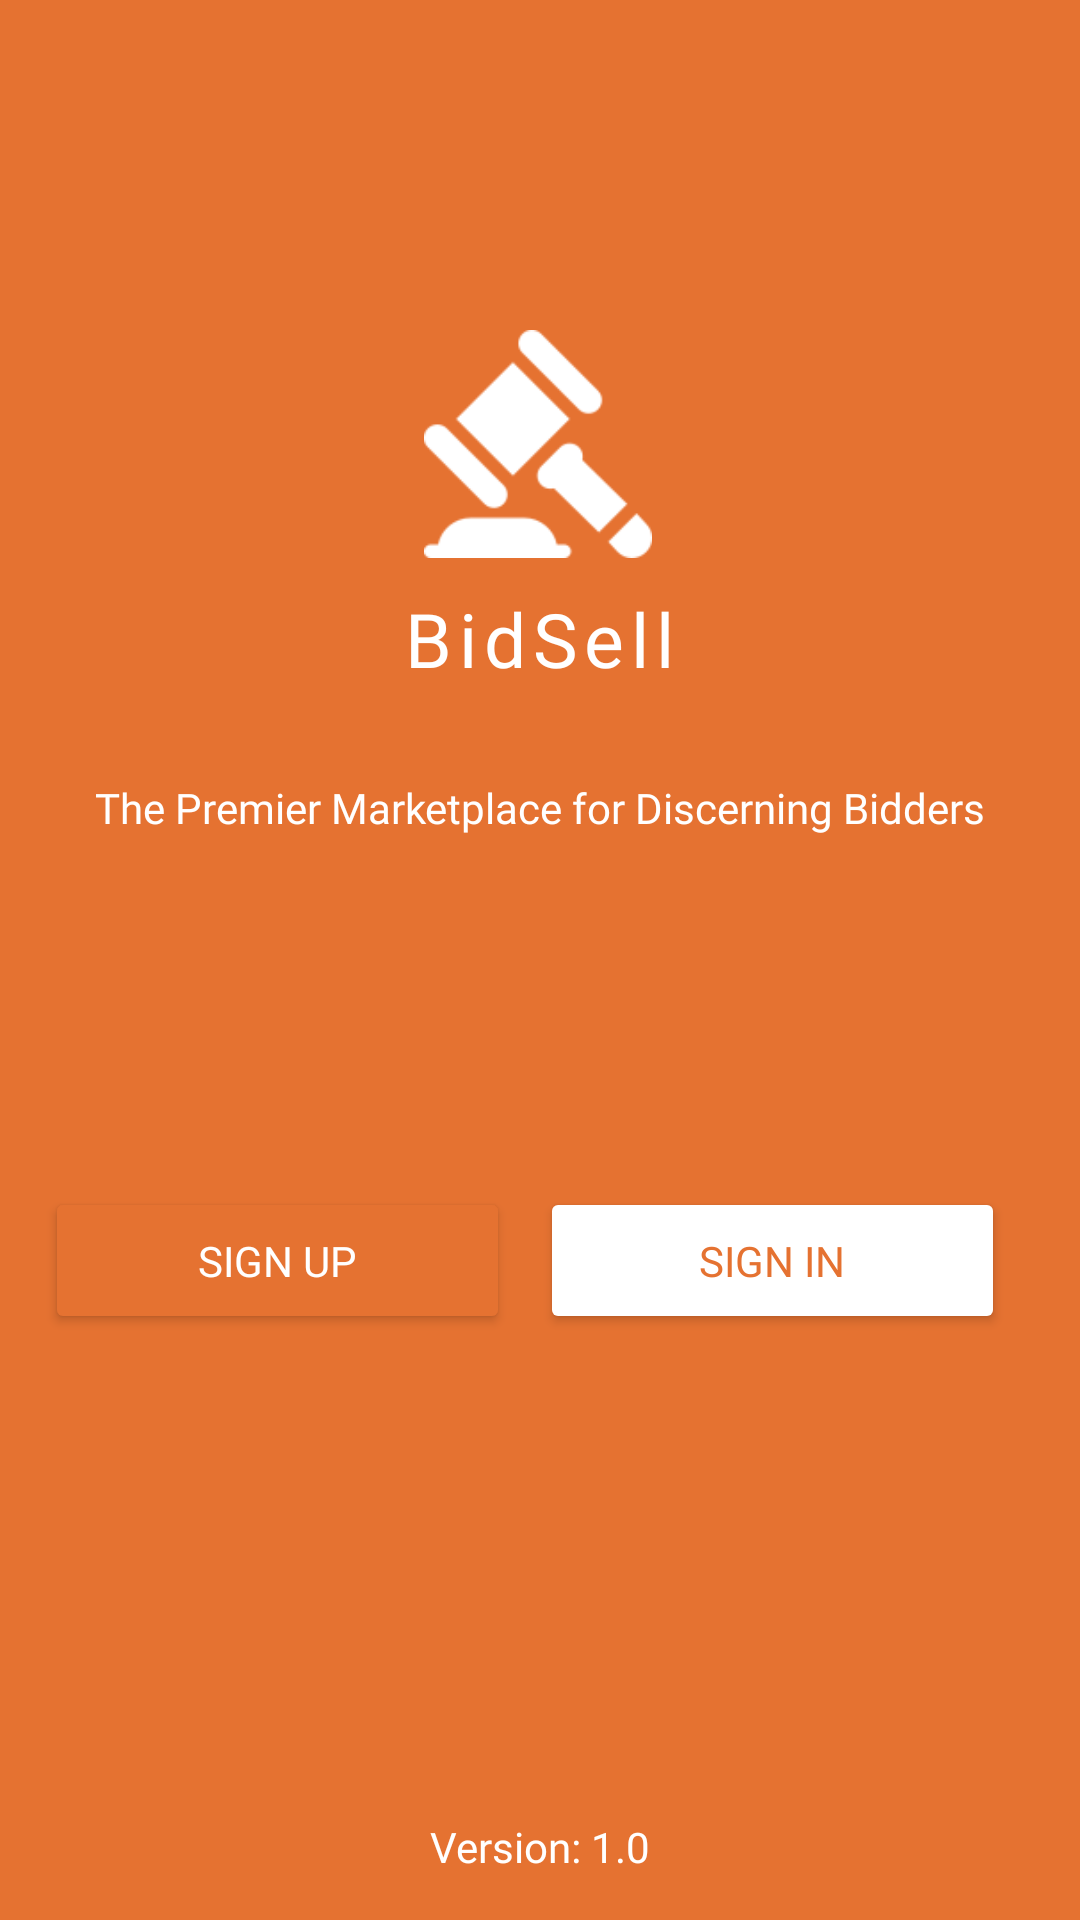

Icons on this 1080 × 1920 Android screen, each with its box as (x1, y1, x2, y2):
auction: (424, 330, 652, 558)
